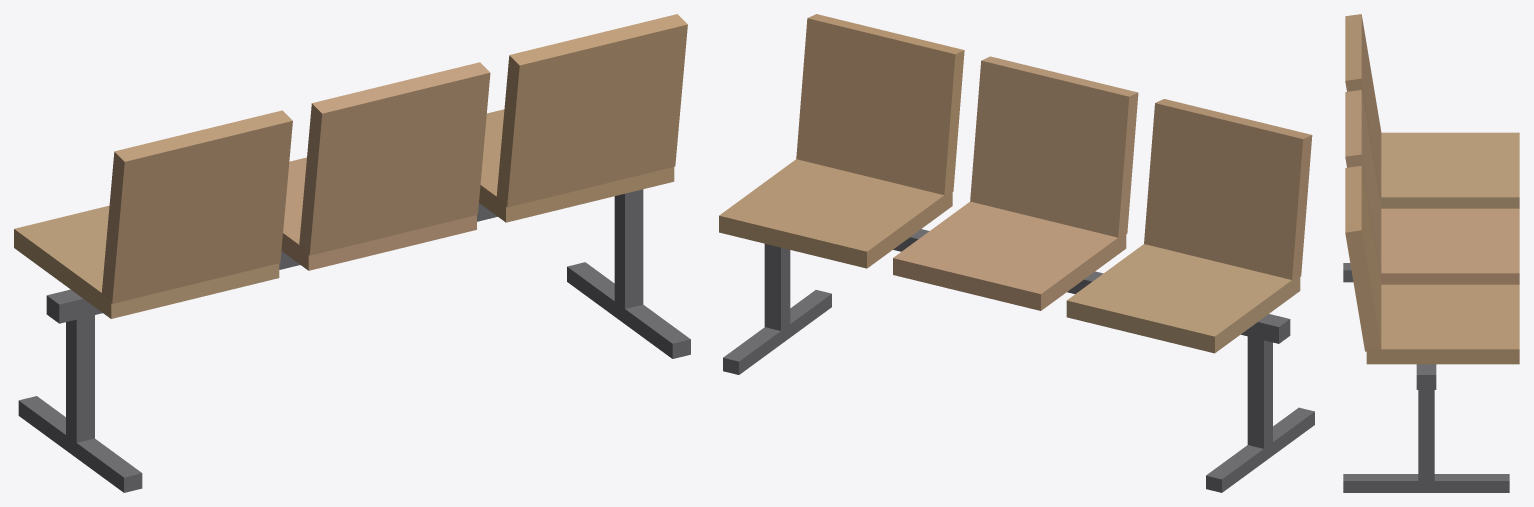
Rendered from waiting_chairs.glb.
3 views of the same model, side by side, from view 1: azimuth 30°, elevation 25°; view 2: azimuth 150°, elevation 25°; view 3: azimuth 270°, elevation 25° (orthographic). The views are drawn at different scales.
Parts seen in each view (by area): view 1: Waiting_chairs; view 2: Waiting_chairs; view 3: Waiting_chairs.
Boxes of the visible parts, <box> form: Waiting_chairs: <box>14,14,690,492</box>; Waiting_chairs: <box>719,14,1314,492</box>; Waiting_chairs: <box>1343,14,1519,492</box>.
Size of the model in its own units: 1.65 by 0.8692 by 0.53.
